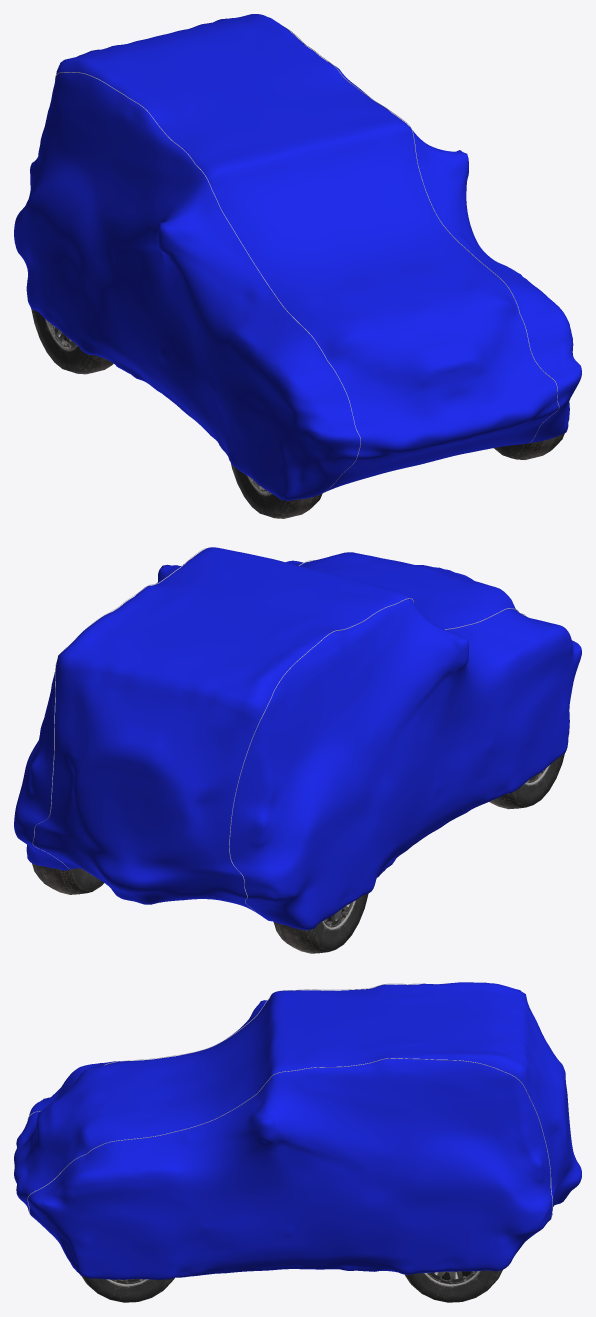
Rendered from jeep.glb.
3 views of the same model, one above another, from view 1: azimuth 30°, elevation 25°; view 2: azimuth 150°, elevation 25°; view 3: azimuth 270°, elevation 25° (orthographic). The views are drawn at different scales.
Visible parts, largest first — view 1: CAPA, RODAS, LINHA; view 2: CAPA, RODAS, LINHA; view 3: CAPA, RODAS, LINHA.
Part boxes in pixels (<box>): CAPA: <box>14,14,581,501</box>; RODAS: <box>31,309,564,518</box>; LINHA: <box>55,26,559,492</box>; CAPA: <box>14,547,581,930</box>; RODAS: <box>32,753,564,953</box>; LINHA: <box>32,548,526,913</box>; CAPA: <box>14,982,581,1279</box>; RODAS: <box>81,1270,502,1302</box>; LINHA: <box>27,983,552,1219</box>.
Bounding box in the file's own units: 1.92 × 1.69 × 3.73.
Materials: 5 (3 with a texture image).
